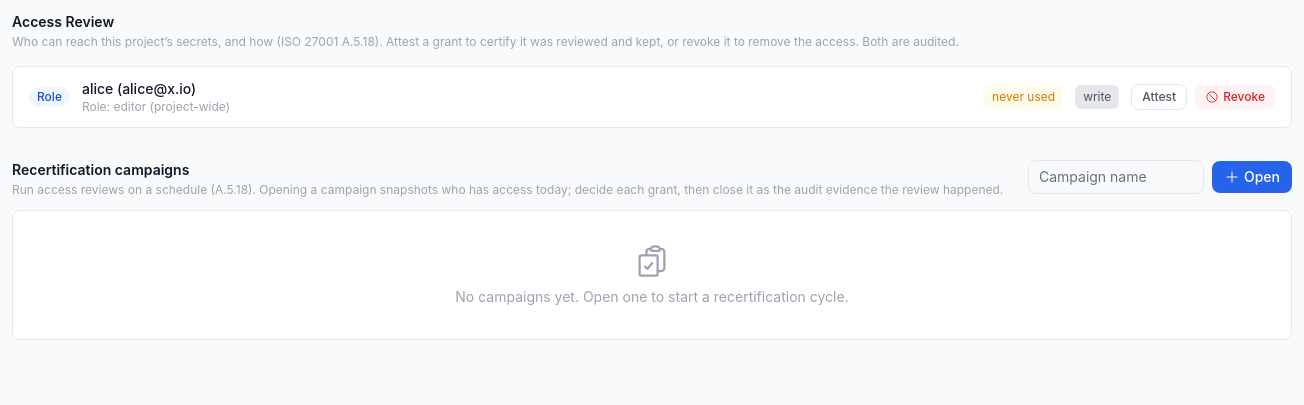
Test: ProjectAccessReviewTab › shows an error banner when attest fails
The width and height of the screenshot is (1304, 405).
Click the button "Attest" at (1159,97), box [1131,84,1187,110]
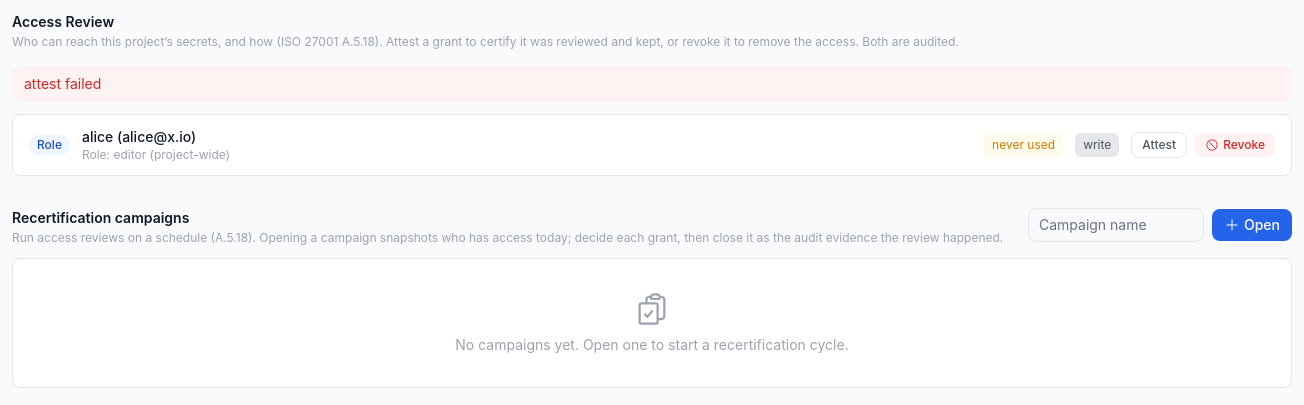
Now the text "attest failed" is shown, box [12,66,1292,102]
